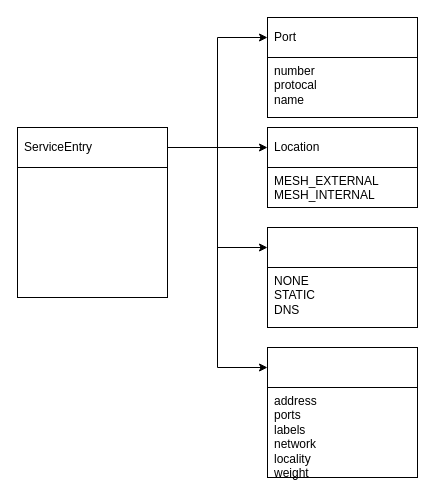
Some shapes in this 435 by 498 pixel diagram are drawn without their labels. The box of each missing label's shape, as (x1, y1, x2, y2) in pixels:
Endpoint: (266, 346, 418, 388)
hosts addresses ports localtion resolution endpoints subjectAltNames exportTo: (16, 126, 168, 298)
Resolution: (266, 226, 418, 268)
